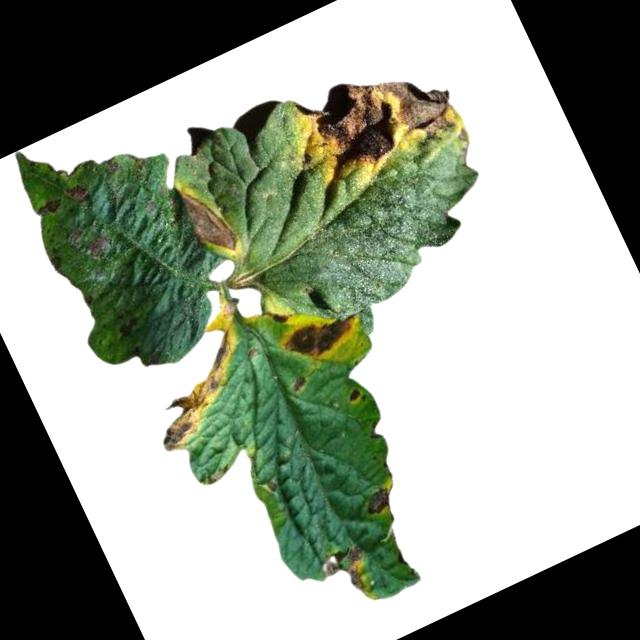Early_blight: (277, 39, 467, 198), (110, 298, 276, 459), (174, 173, 240, 262), (282, 303, 365, 368), (315, 538, 379, 606), (357, 483, 394, 518), (59, 180, 91, 208), (31, 195, 61, 218), (286, 371, 310, 396), (343, 386, 363, 404)
